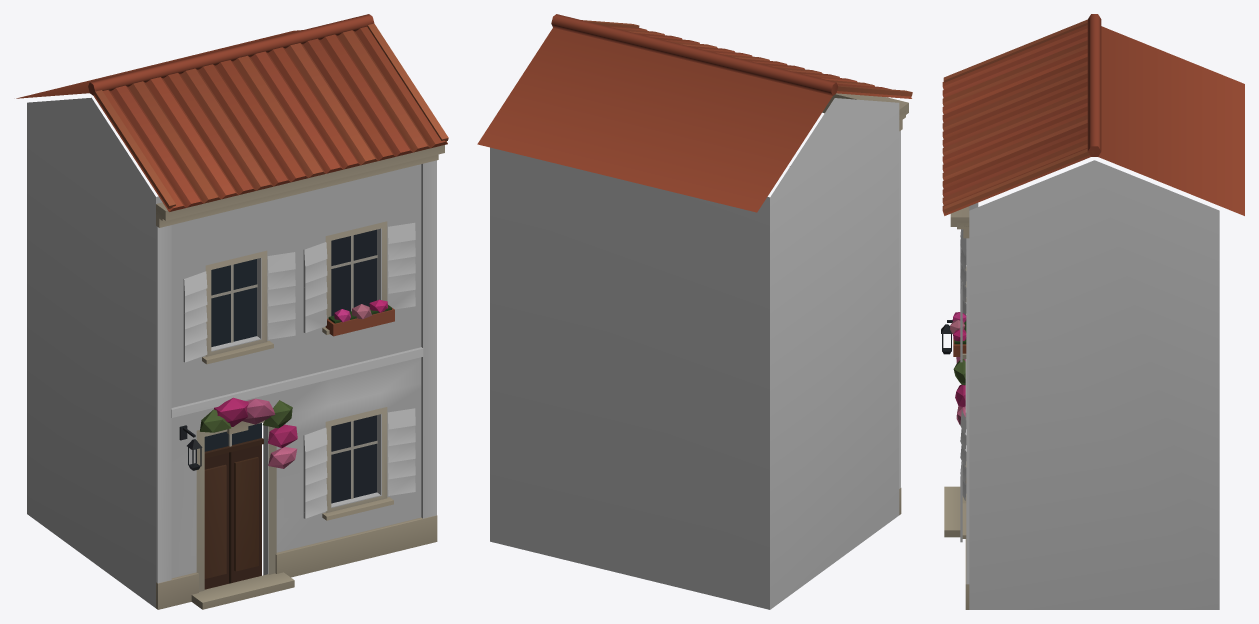
The model's file is plaza-house-a.glb.
The picture shows the model from 3 angles, left to right: view 1: azimuth 30°, elevation 25°; view 2: azimuth 150°, elevation 25°; view 3: azimuth 270°, elevation 25°; orthographic projection. The views are drawn at different scales.
Visible parts, largest first — view 1: stucco, trim, shutters; view 2: stucco, trim; view 3: stucco, trim, shutters.
Part boxes in pixels (x1,y1,x2,y2): stucco: (27,97,436,607); trim: (16,14,448,609); shutters: (183,222,415,518); stucco: (490,98,900,609); trim: (477,14,912,514); stucco: (965,160,1219,609); trim: (941,14,1244,609); shutters: (960,229,966,542).
Size of the model in its own units: 5 by 8.18 by 4.85.
